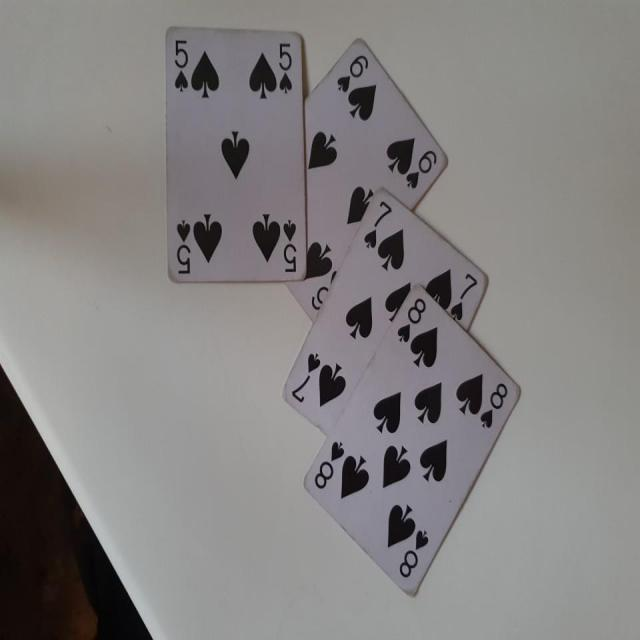5 Spades: (160, 18, 312, 289)
6 Spades: (262, 31, 457, 328)
7 Spades: (281, 192, 493, 474)
8 Spades: (297, 284, 527, 601)
